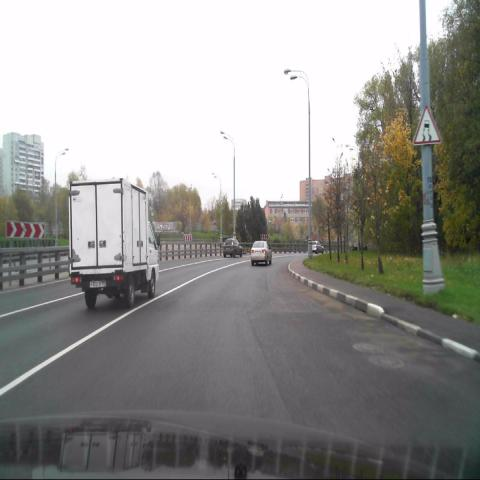1_15: (413, 106, 441, 146)
